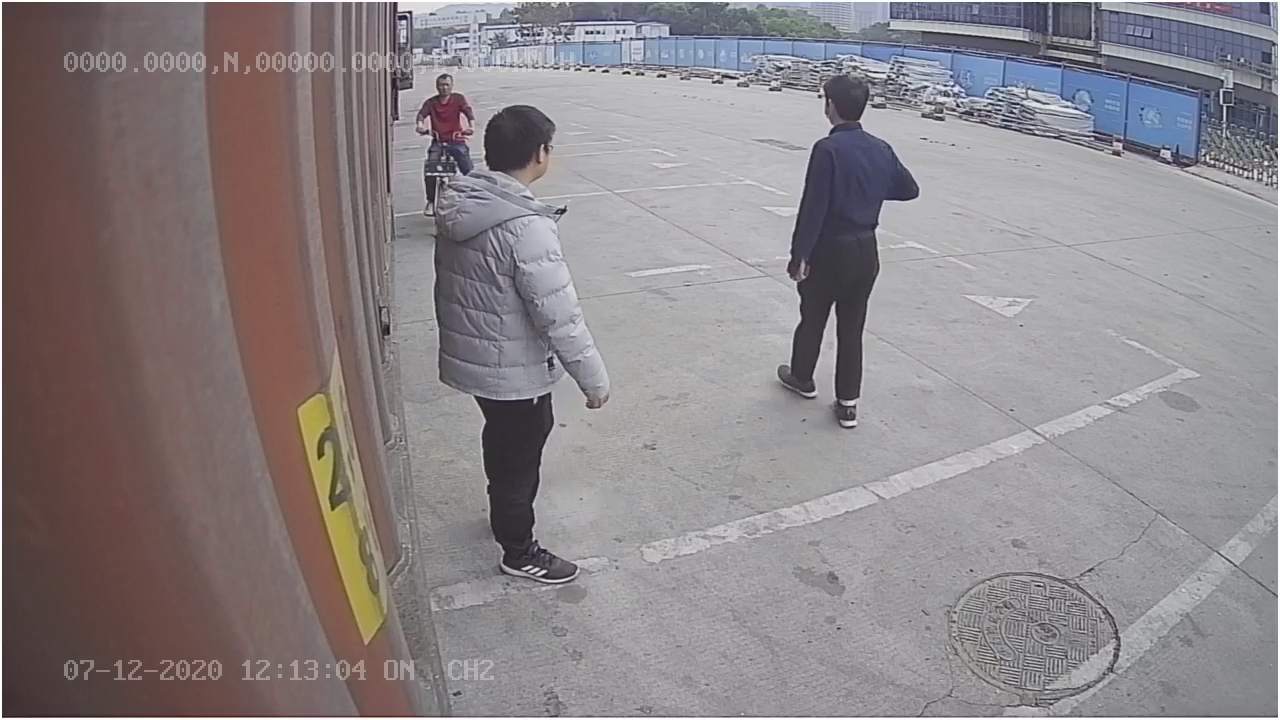person: (430, 99, 616, 591), (773, 67, 919, 434)
